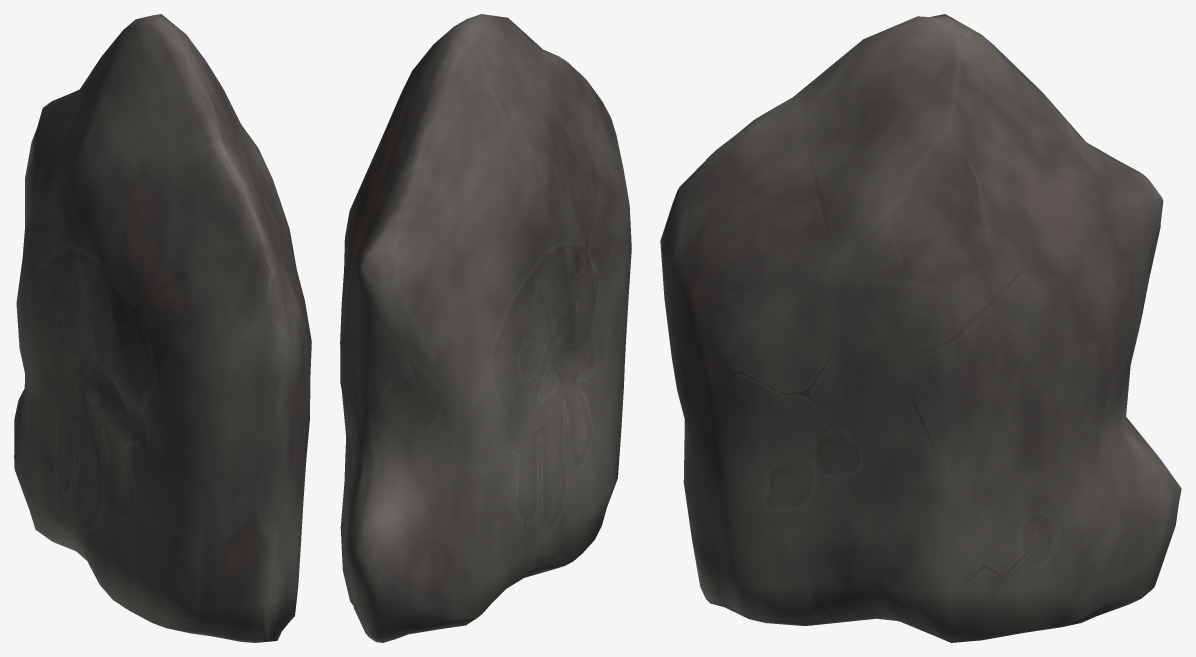
The model's file is low_poly_stone_shrine.glb.
3 renders of one model, left to right at view 1: azimuth 30°, elevation 25°; view 2: azimuth 150°, elevation 25°; view 3: azimuth 270°, elevation 25°, orthographic. The views are drawn at different scales.
Parts seen in each view (by area): view 1: Cube.LP_0; view 2: Cube.LP_0; view 3: Cube.LP_0.
Part boxes in pixels (<box>): Cube.LP_0: <box>14,14,311,642</box>; Cube.LP_0: <box>340,14,631,642</box>; Cube.LP_0: <box>660,14,1181,642</box>.
Size of the model in its own units: 1.45 by 3.9 by 3.15.
1 material, 1 textured.
